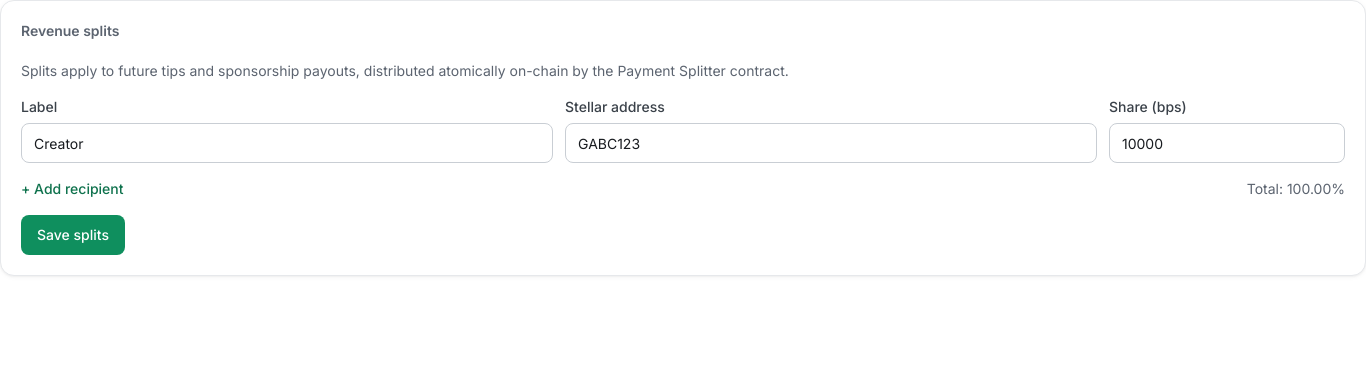
Test: SplitConfigForm › adds a new recipient row
The image size is (1366, 376).
Click the button "+ Add recipient": (72, 189) [21,179,124,199]
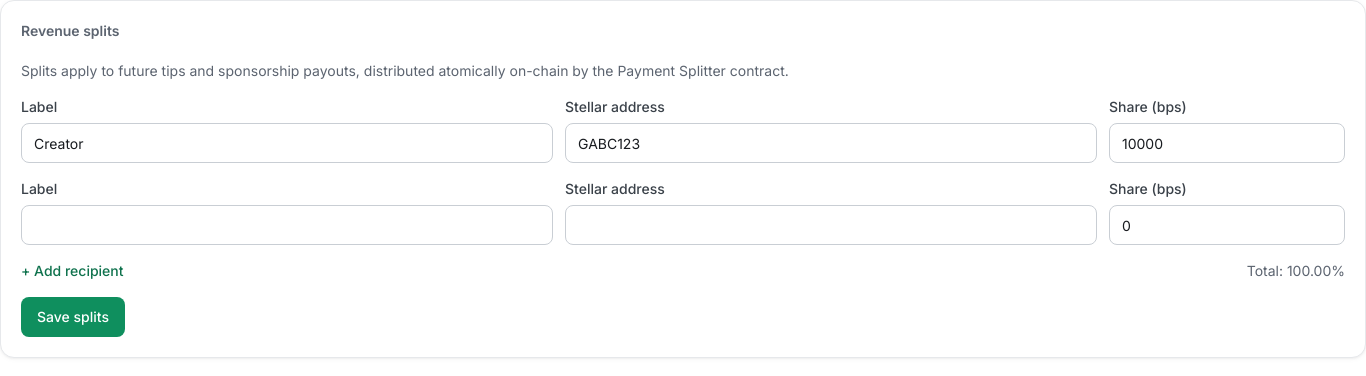
Expected: the number of fields labelled "Label" is 2, [21,123,553,163]; [21,205,553,245]
